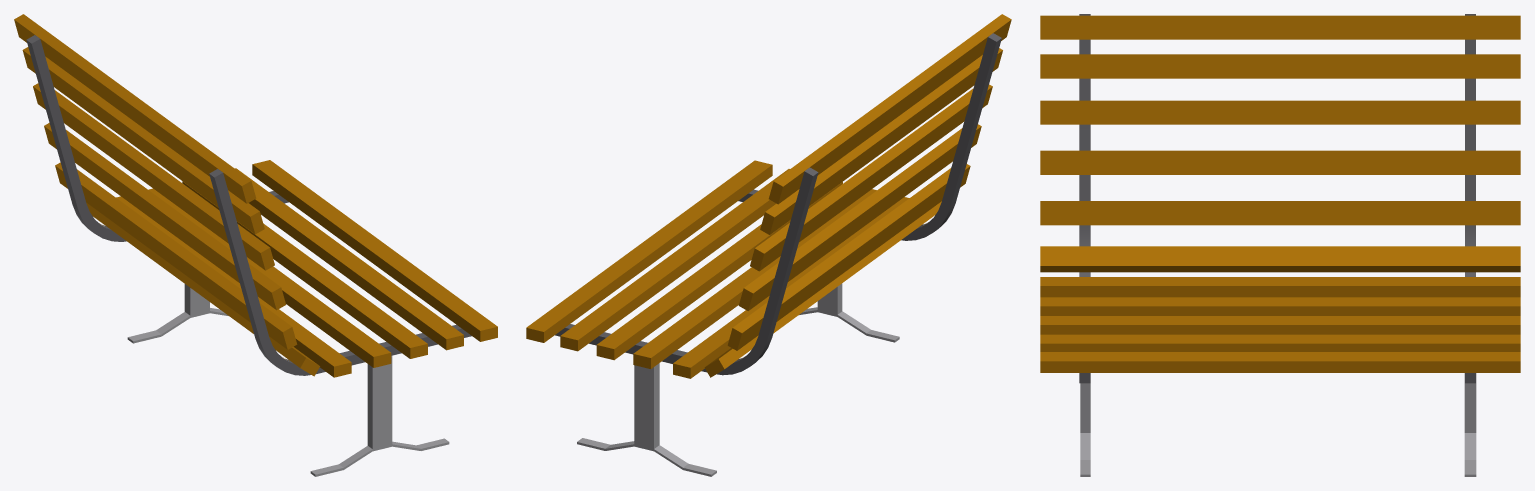
Rendered from Silla.fbx.
The picture shows the model from 3 angles, left to right: view 1: azimuth 30°, elevation 25°; view 2: azimuth 150°, elevation 25°; view 3: azimuth 270°, elevation 25°; orthographic projection. The views are drawn at different scales.
Visible parts, largest first — view 1: Banco de parque; view 2: Banco de parque; view 3: Banco de parque.
Part boxes in pixels (x1,y1,x2,y2): Banco de parque: (14, 14, 497, 476); Banco de parque: (526, 14, 1011, 476); Banco de parque: (1040, 14, 1520, 476).
Size of the model in its own units: 242 by 360 by 288.
1 material, 1 textured.
